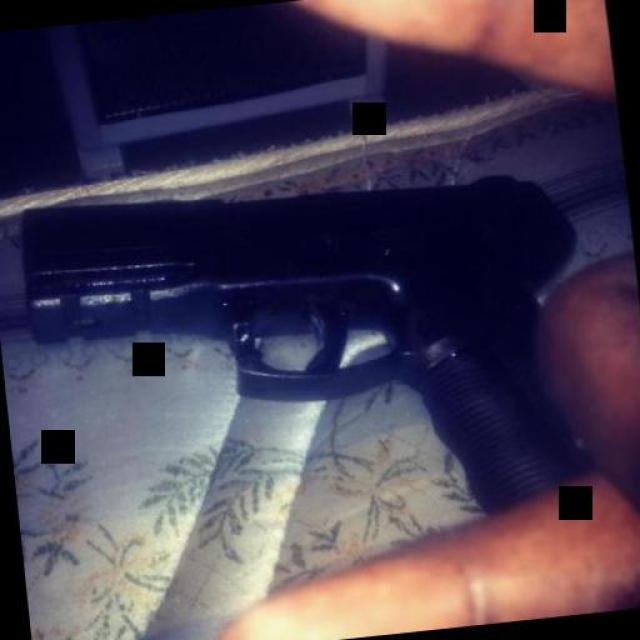gun: (14, 148, 614, 568)
